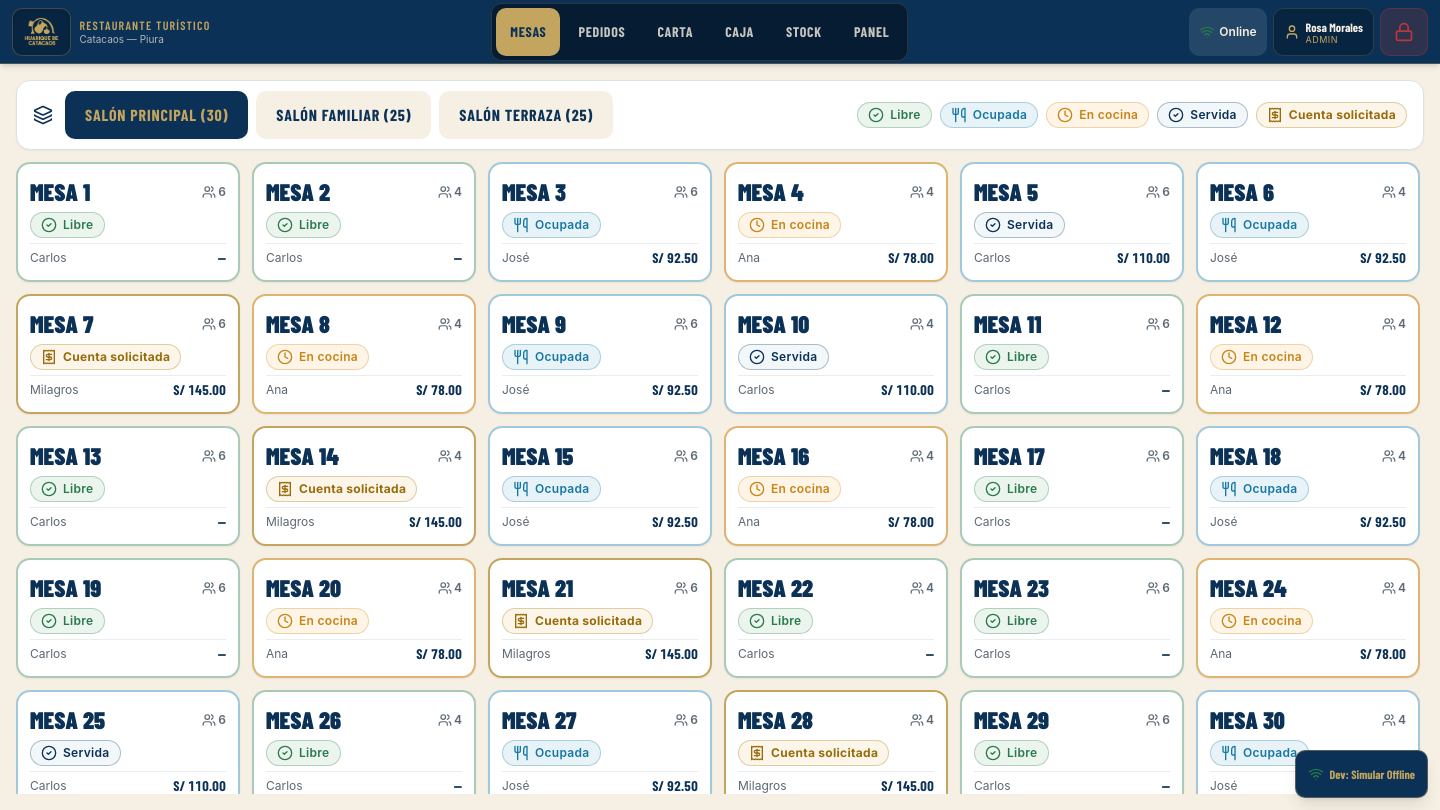
Test: Aplicación Principal y Criterios de Accesibilidad — El Huarique de Catacaos › permite ingresar dígitos en el teclado numérico en la pestaña de pedidos
The width and height of the screenshot is (1440, 810).
Click the button "Pedidos": (602, 32) 564,8 -> 639,56
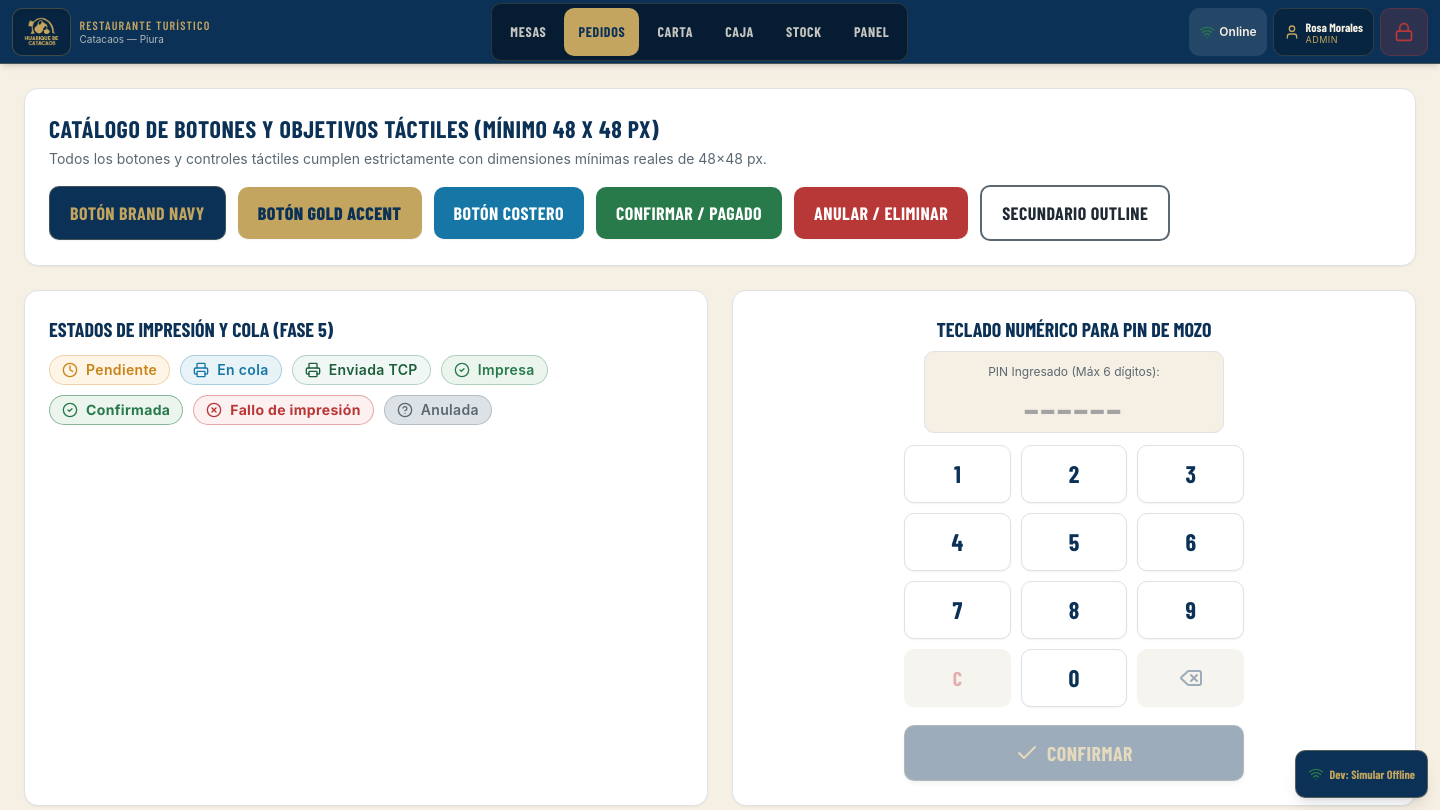
Note: Debe mostrar el teclado numérico
Click the button "1": (957, 474) 904,445 -> 1011,503
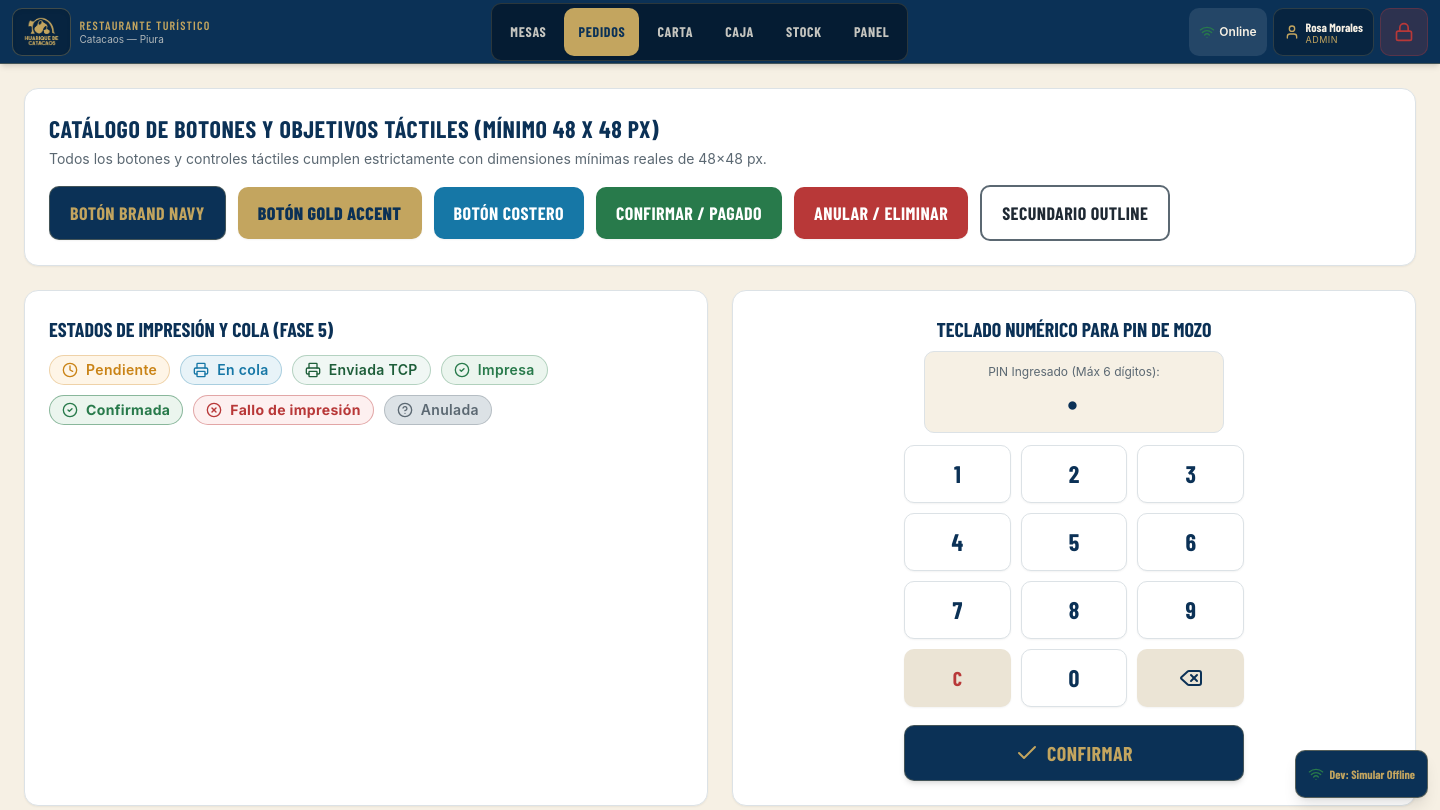
Click the button "2": (1074, 474) 1021,445 -> 1127,503
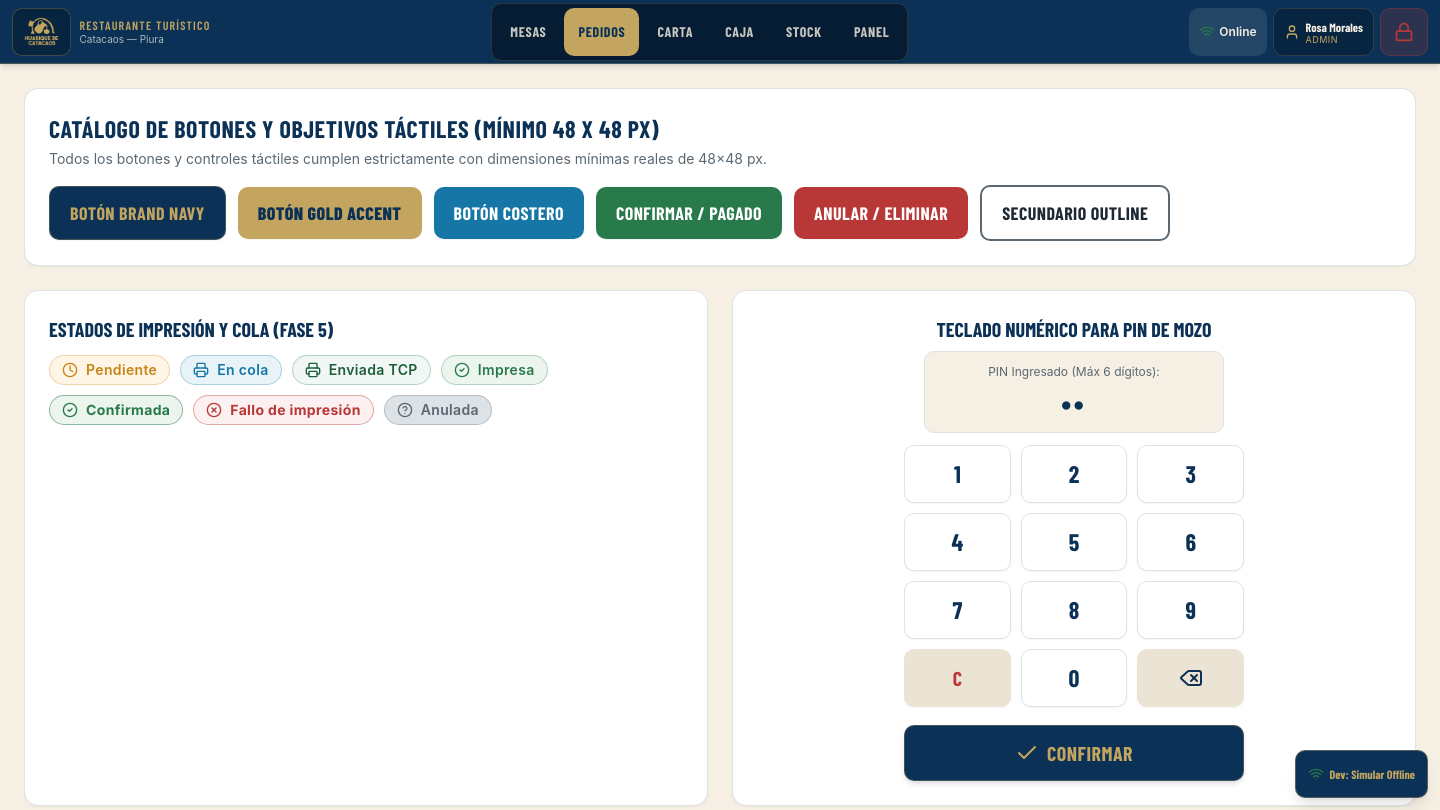
Result: the text with test id "pin-display" reads "••" at 1062,384 -> 1086,420
